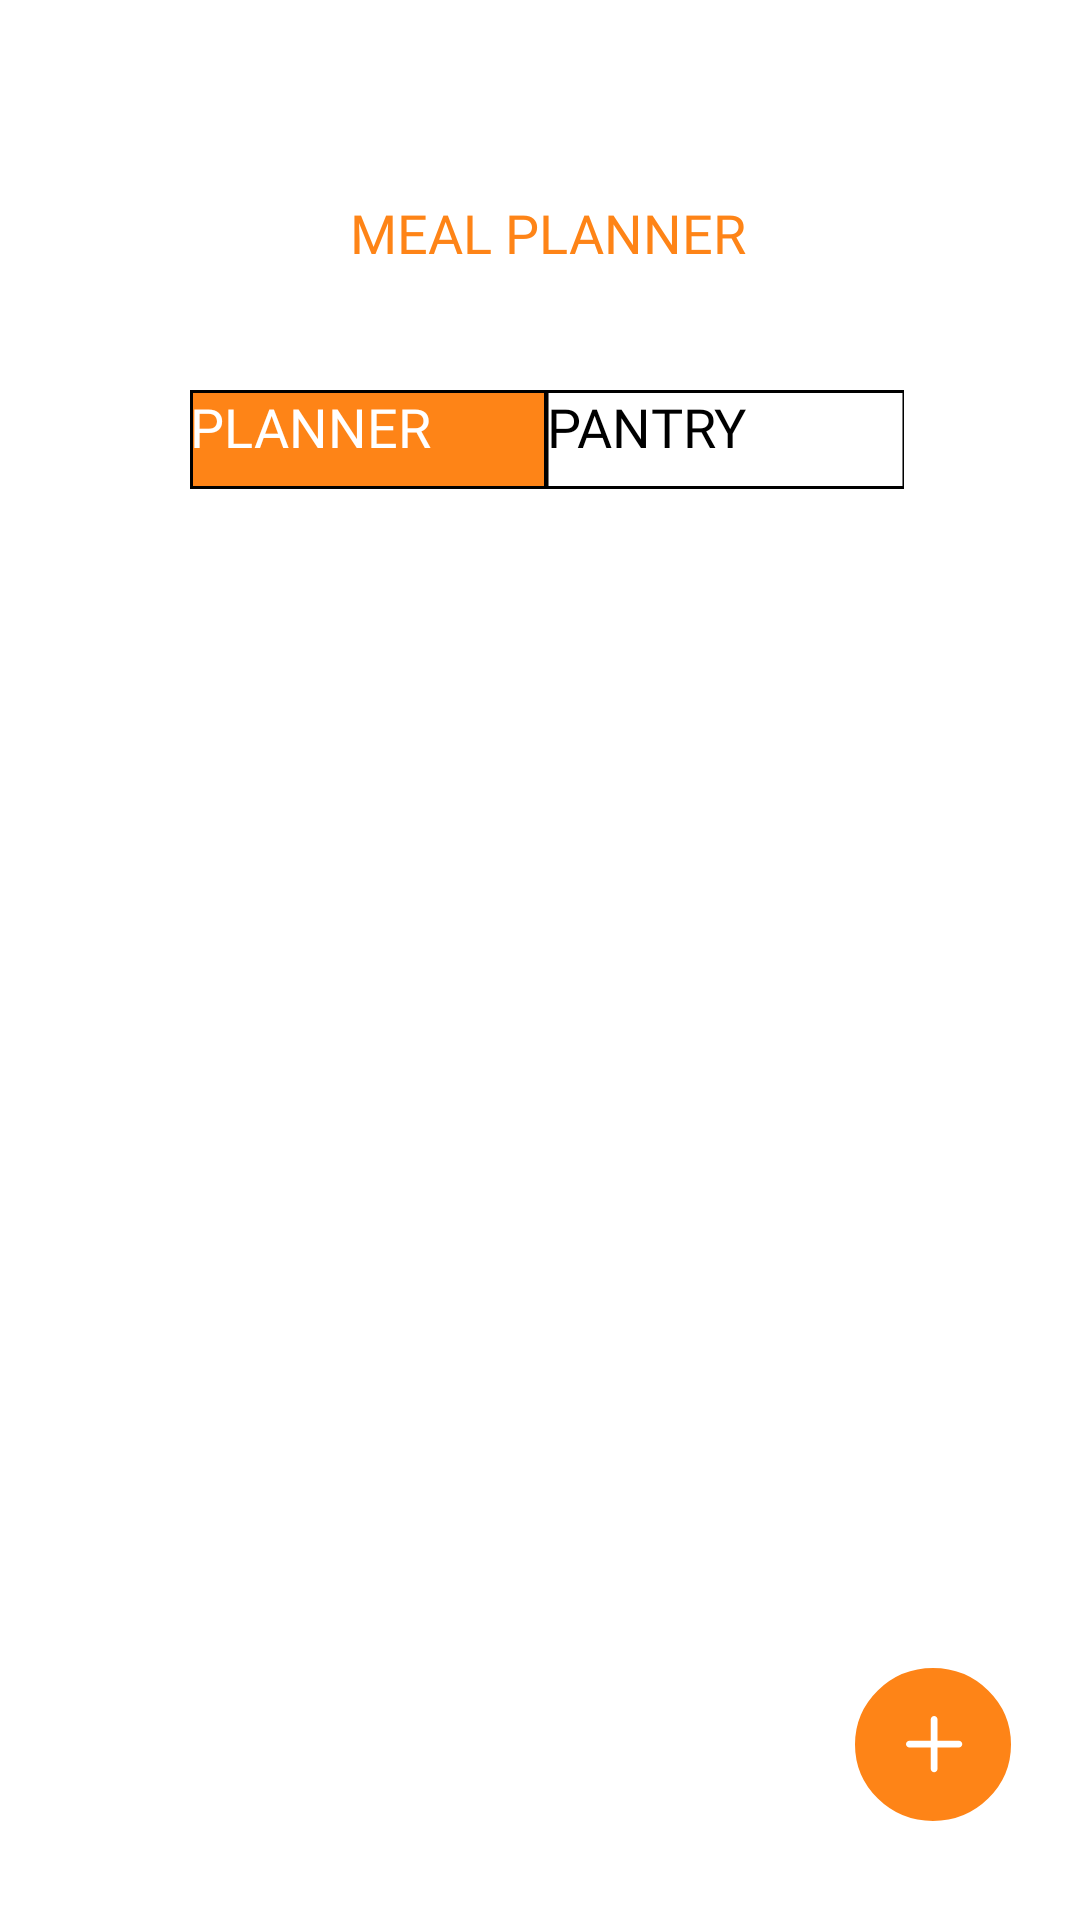

Point at icon controls on the screen. Image size 1080px×1920px, points as point (x, y).
pluss: point (933, 1744)
